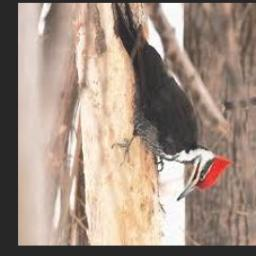Woodpecker: (114, 4, 232, 202)
